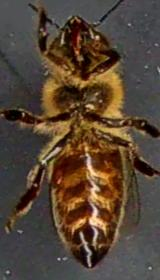varroa_mite: (40, 156, 71, 192)
